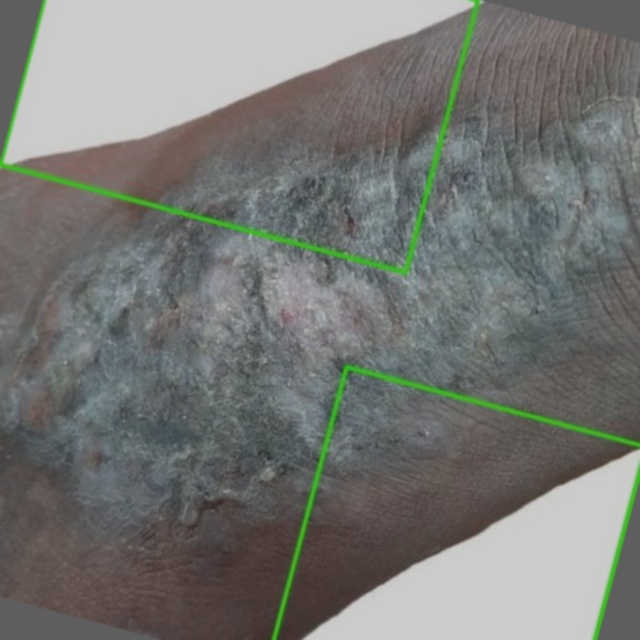Contact Dermatitis: (0, 0, 477, 272), (275, 368, 639, 639)
